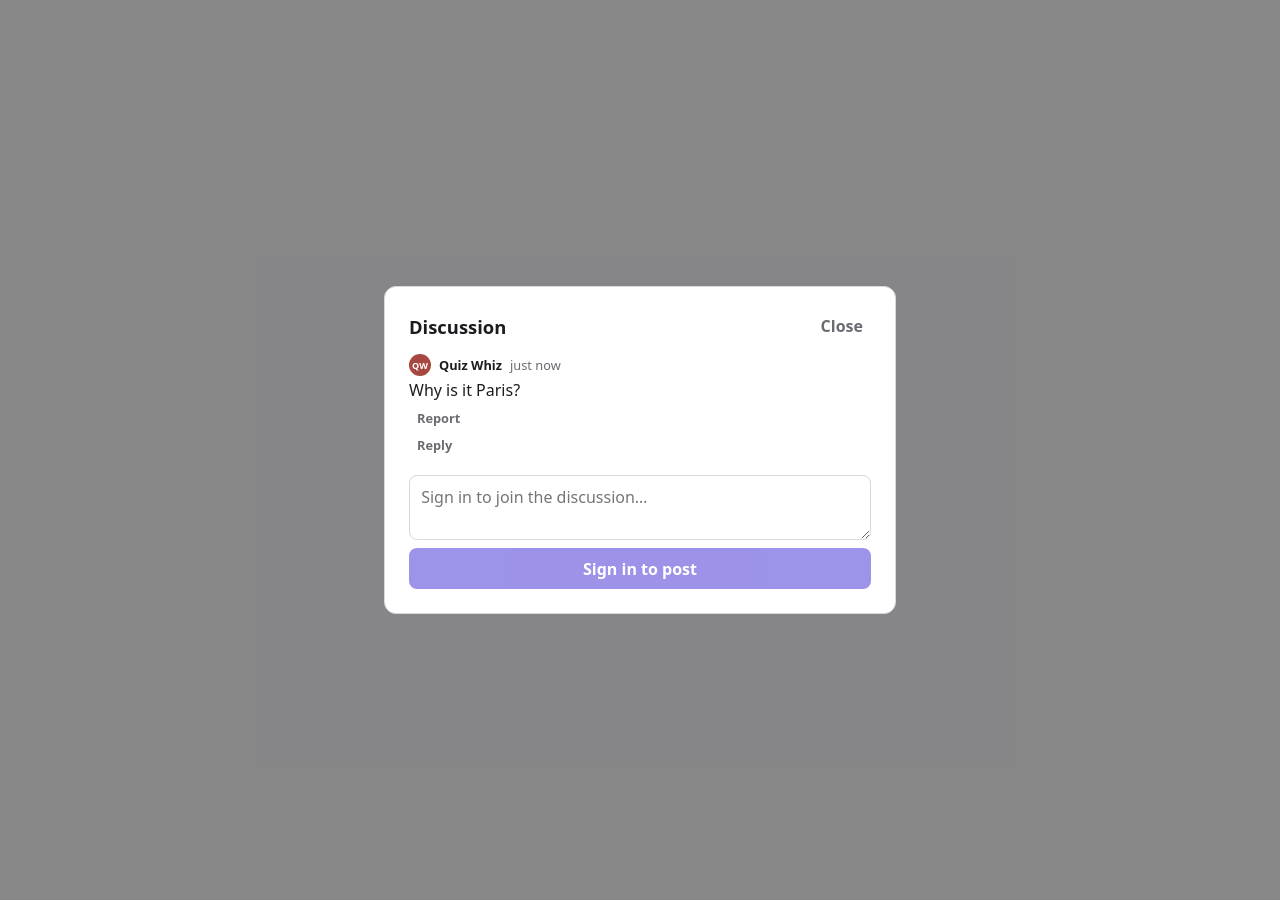
DiscussionPanel › a guest is prompted to sign in when posting (conversion)
The width and height of the screenshot is (1280, 900).
Expected: the text "Why is it Paris?" is shown, x1=409 y1=379 x2=520 y2=401
Type "My thoughts" into the text box named "Your message" at (640,508), box x1=409 y1=475 x2=871 y2=540
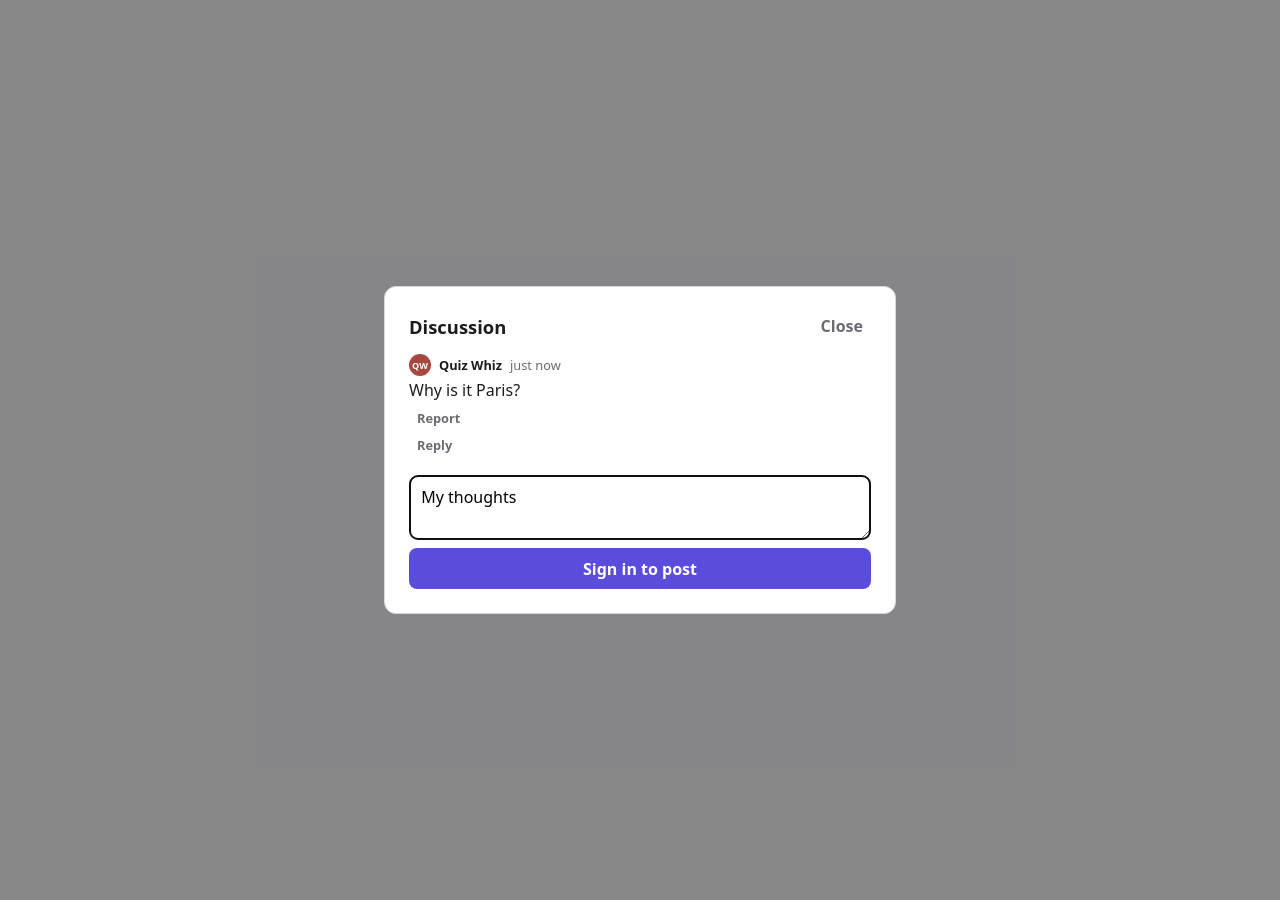
Click the button "Sign in to post" at (640,569), box x1=409 y1=548 x2=871 y2=589
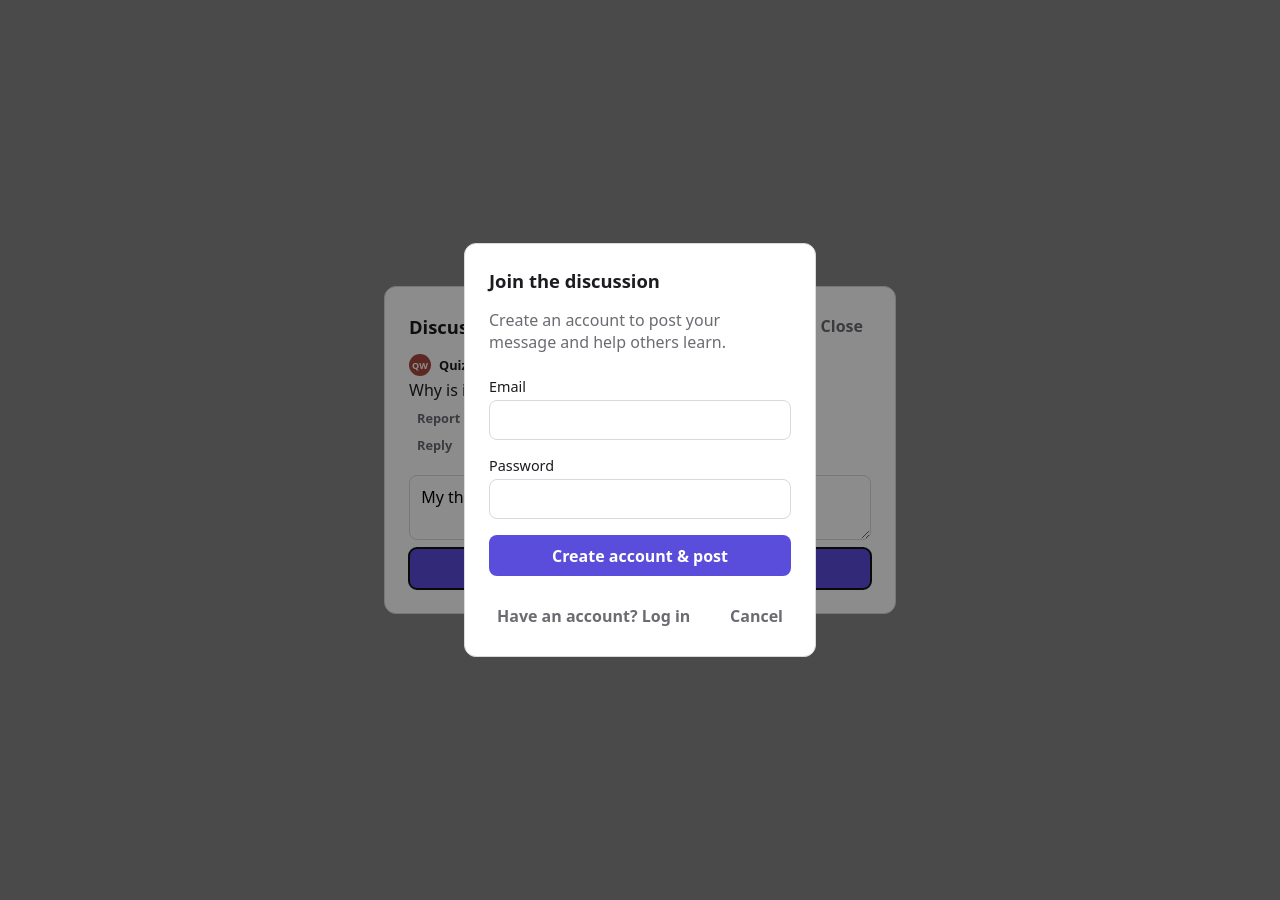
Expected: the heading "Join the discussion" is shown, x1=489 y1=268 x2=660 y2=293
